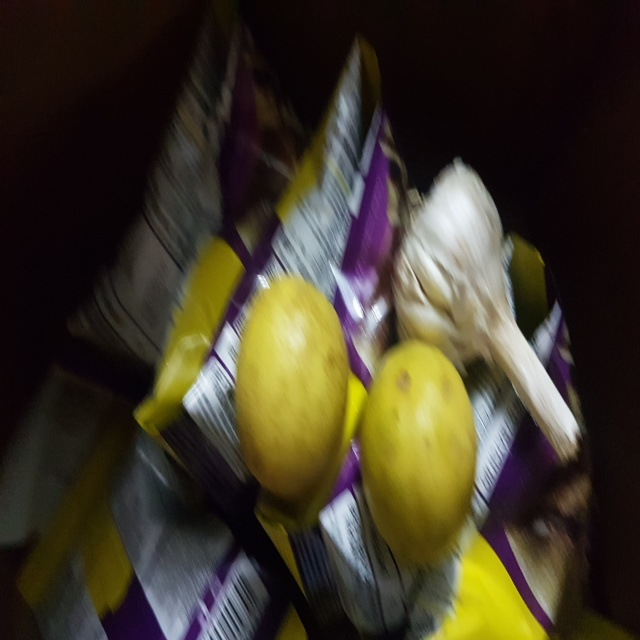garlic: (381, 142, 589, 471)
lemon: (350, 331, 496, 557), (232, 271, 360, 513)
